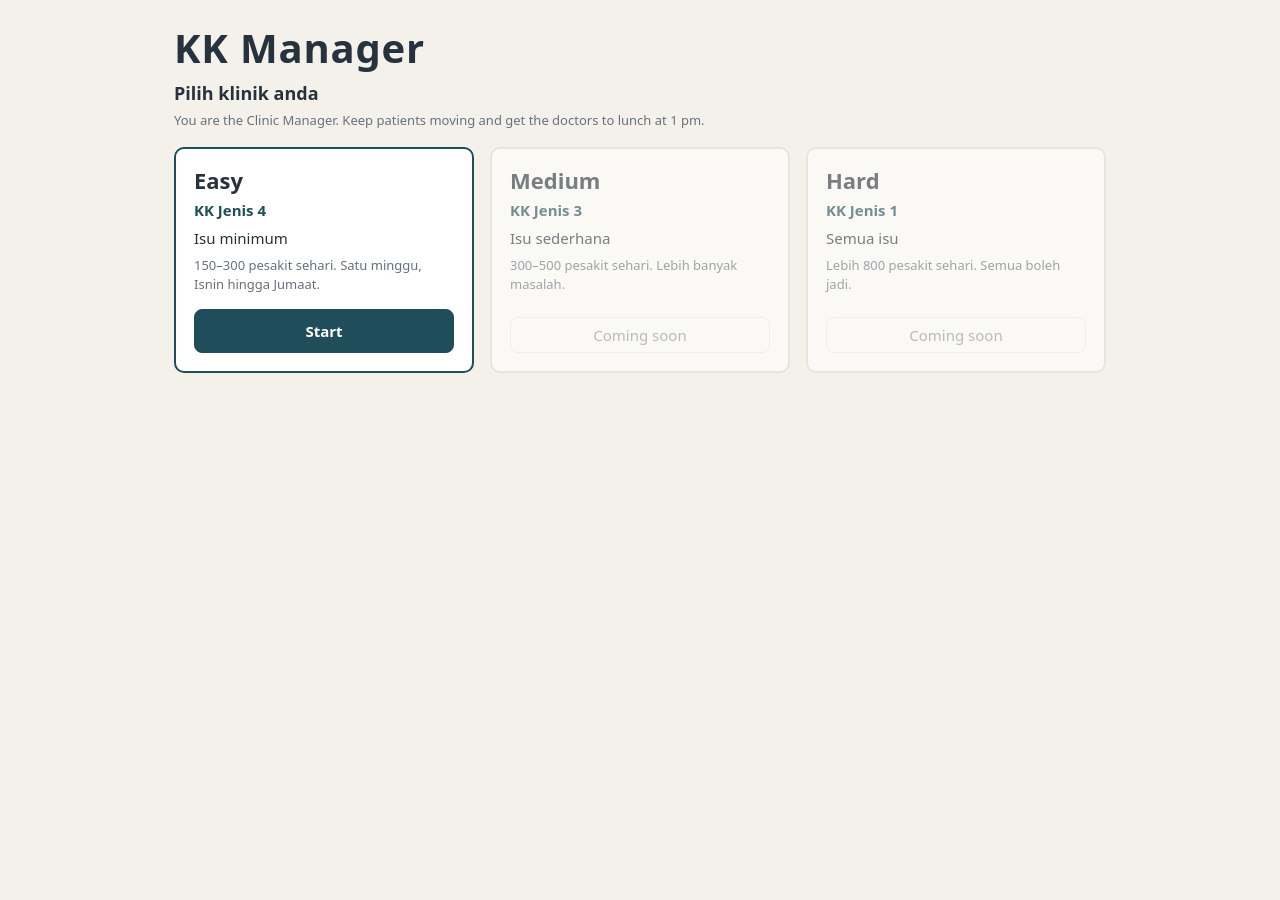
Start → Isnin popups → Skip ahead → report → Continue to Selasa
Click the button "Start": {"x": 324, "y": 331} [194, 309, 454, 353]
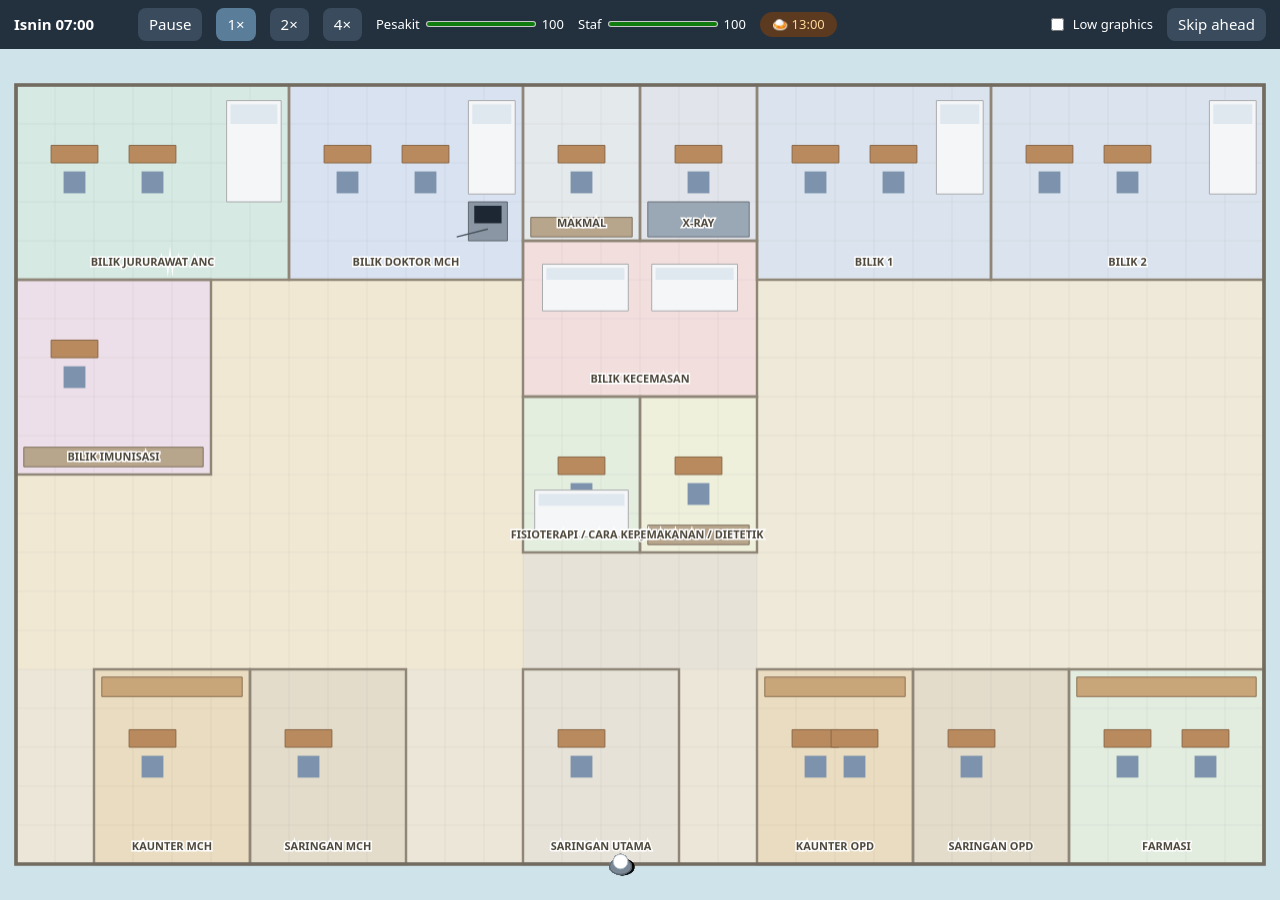
Now the element named "Clinic controls" is shown, box [0, 0, 1279, 48]
Now the text "Isnin 07:00" is shown, box [14, 14, 94, 34]
Click the button "Skip ahead": {"x": 1216, "y": 24} [1167, 8, 1266, 40]
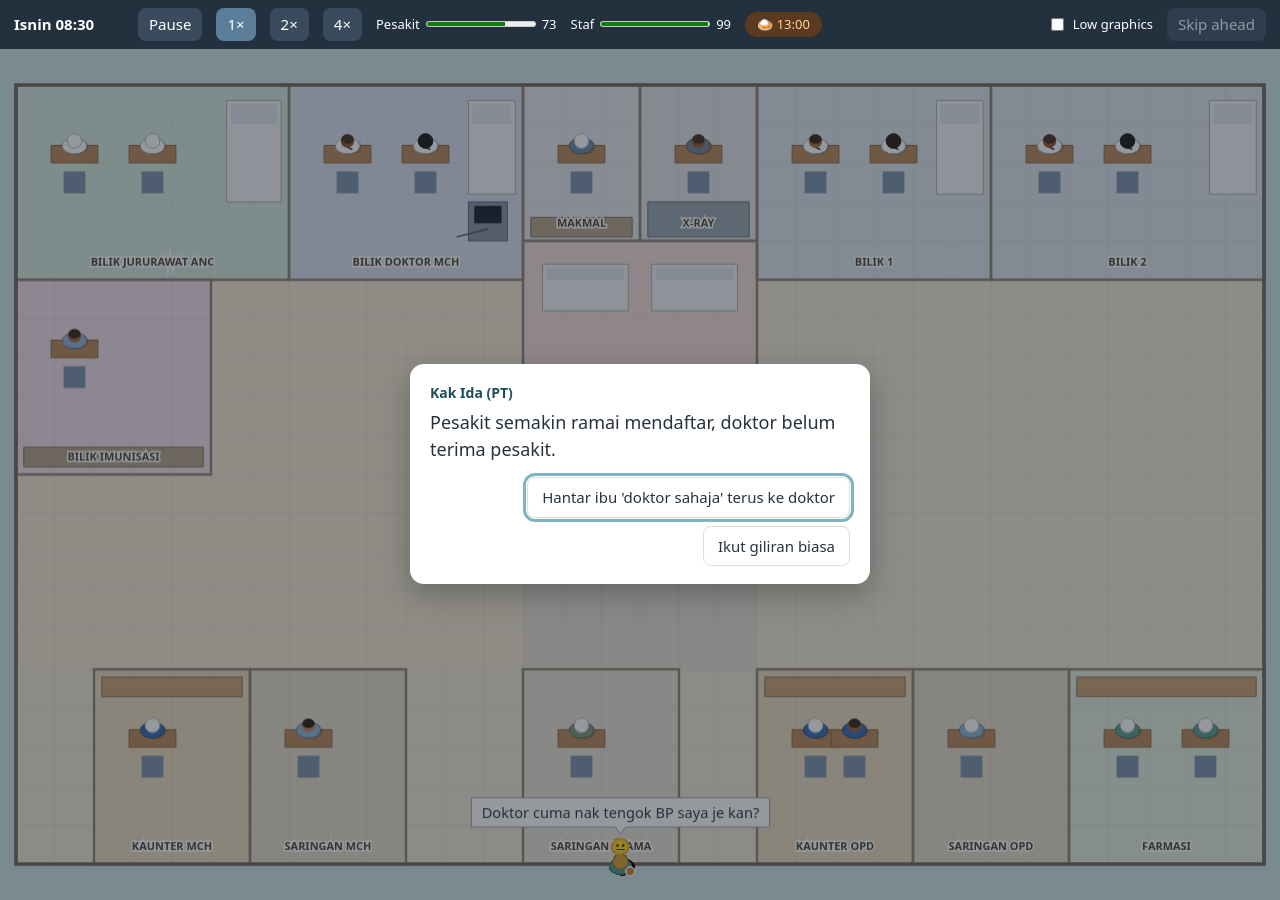
Click the button "Hantar ibu 'doktor sahaja' terus ke doktor": {"x": 689, "y": 498} [527, 477, 850, 518]
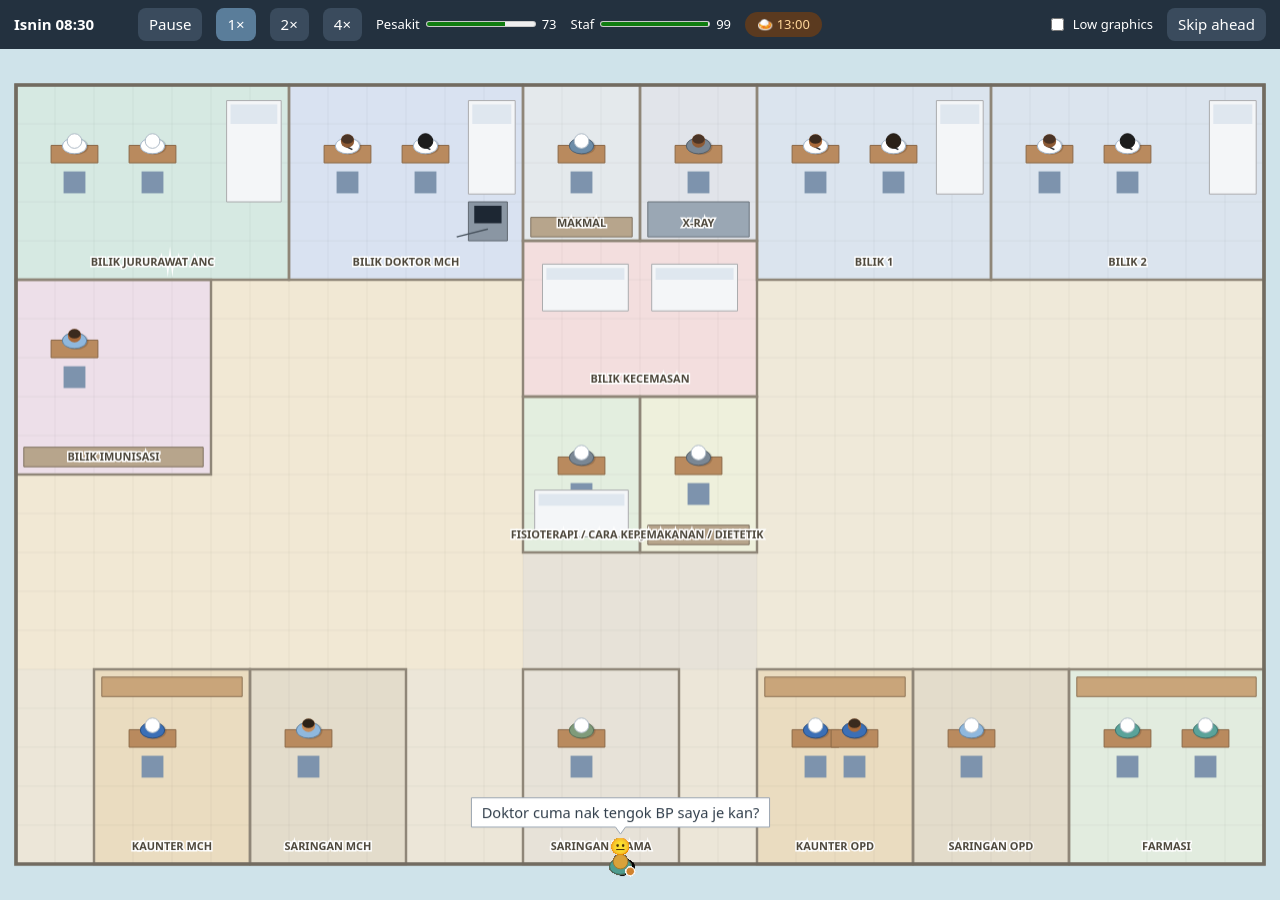
Click the button "Skip ahead": {"x": 1216, "y": 24} [1167, 8, 1266, 40]
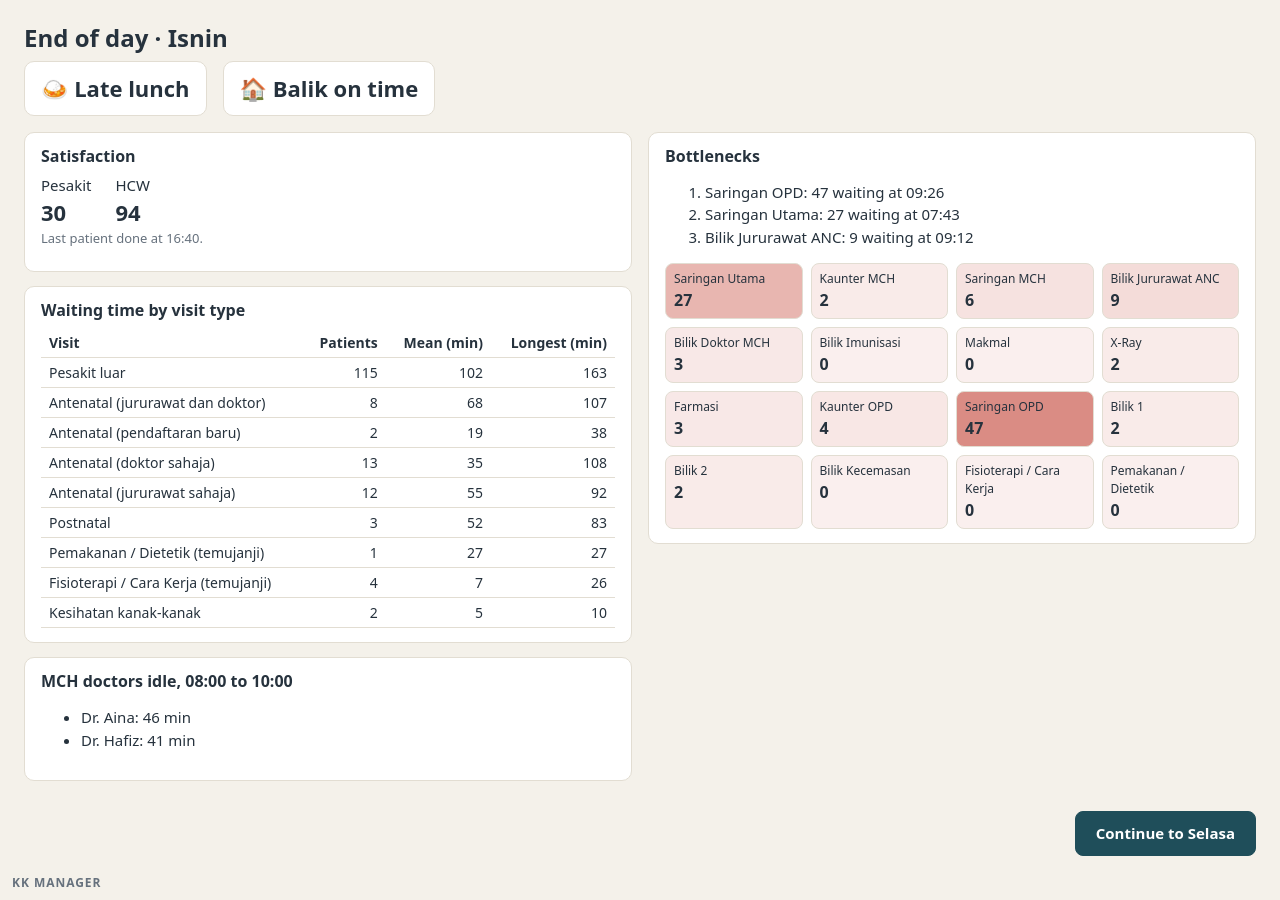
Now the heading "End of day · Isnin" is shown, box [24, 21, 228, 54]
Click the button "Continue to Selasa": {"x": 1165, "y": 834} [1075, 811, 1256, 856]
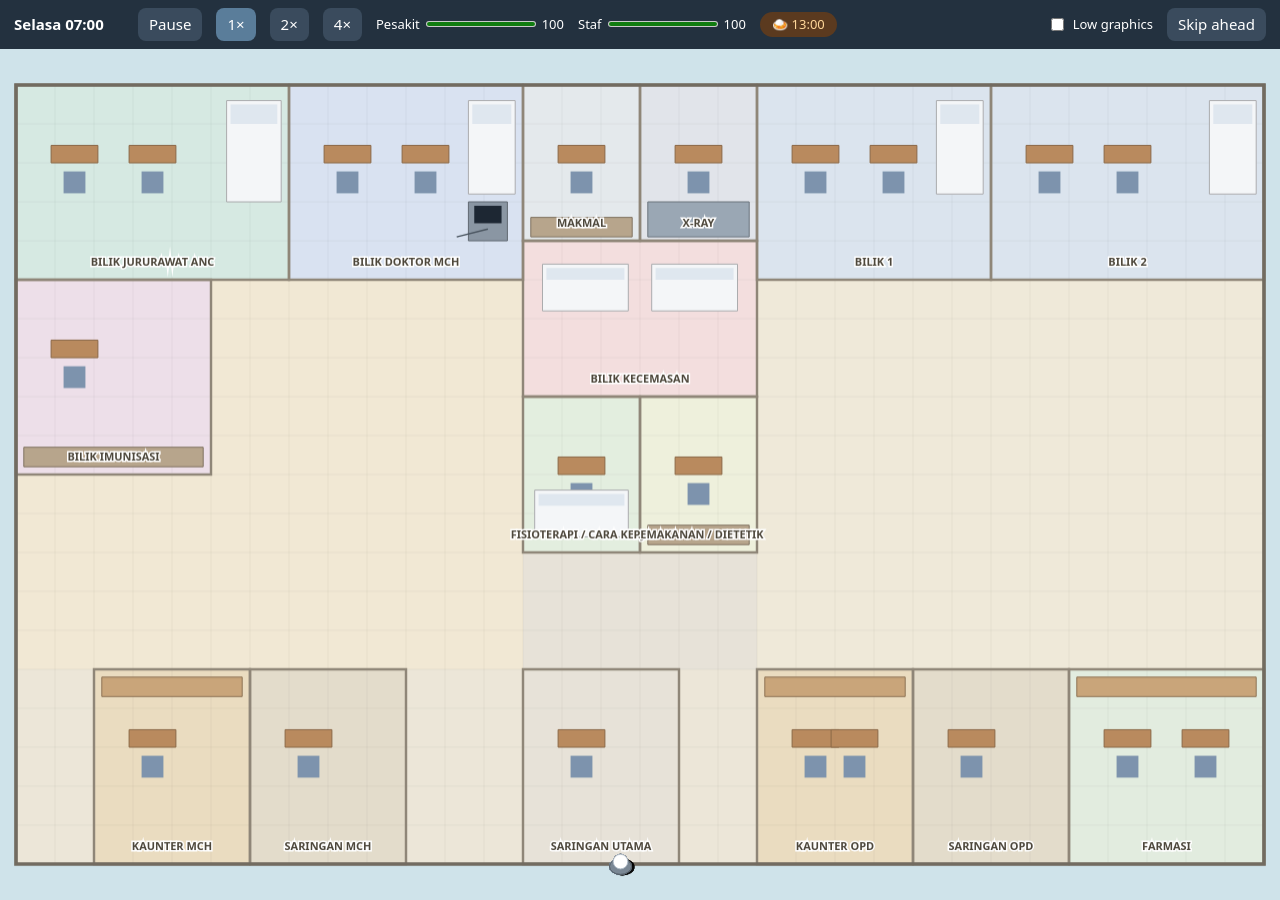
Now the text "Selasa 07:00" is shown, box [14, 14, 104, 34]
